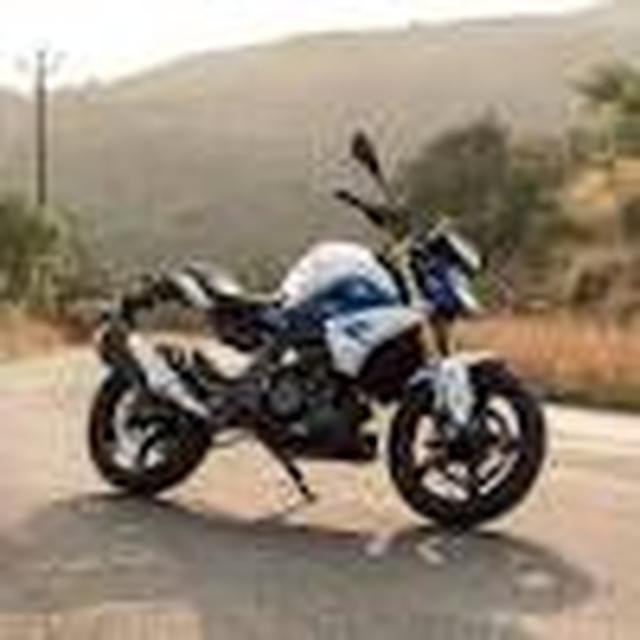motorcycle: (85, 123, 553, 540)
